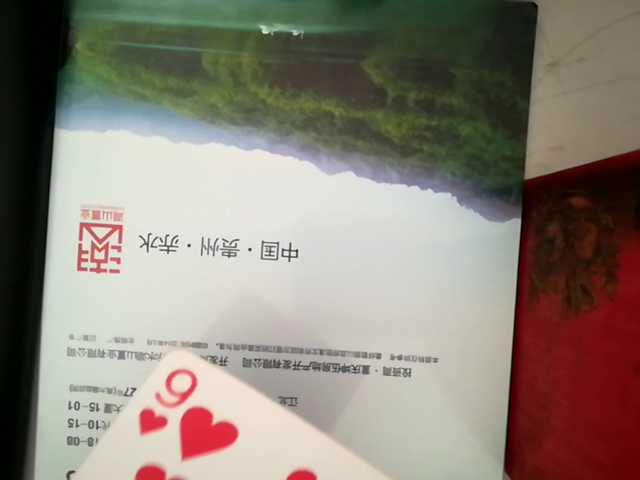hx 9: (28, 353, 474, 480)
